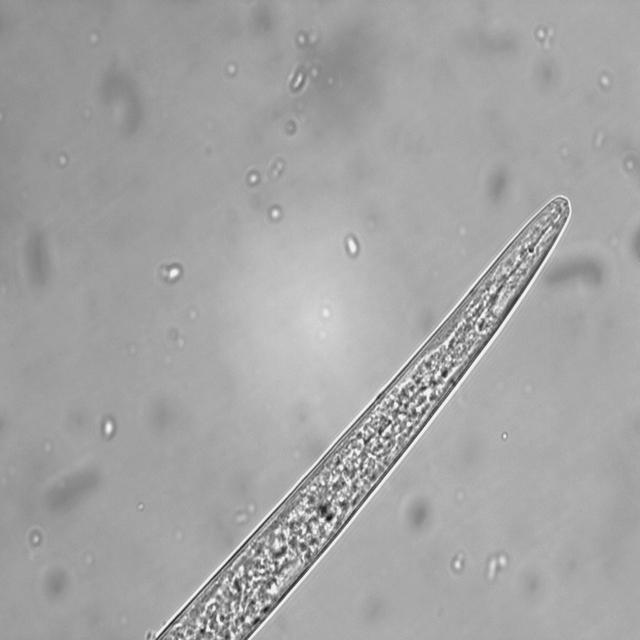Meloidogyne: (150, 188, 574, 640)
